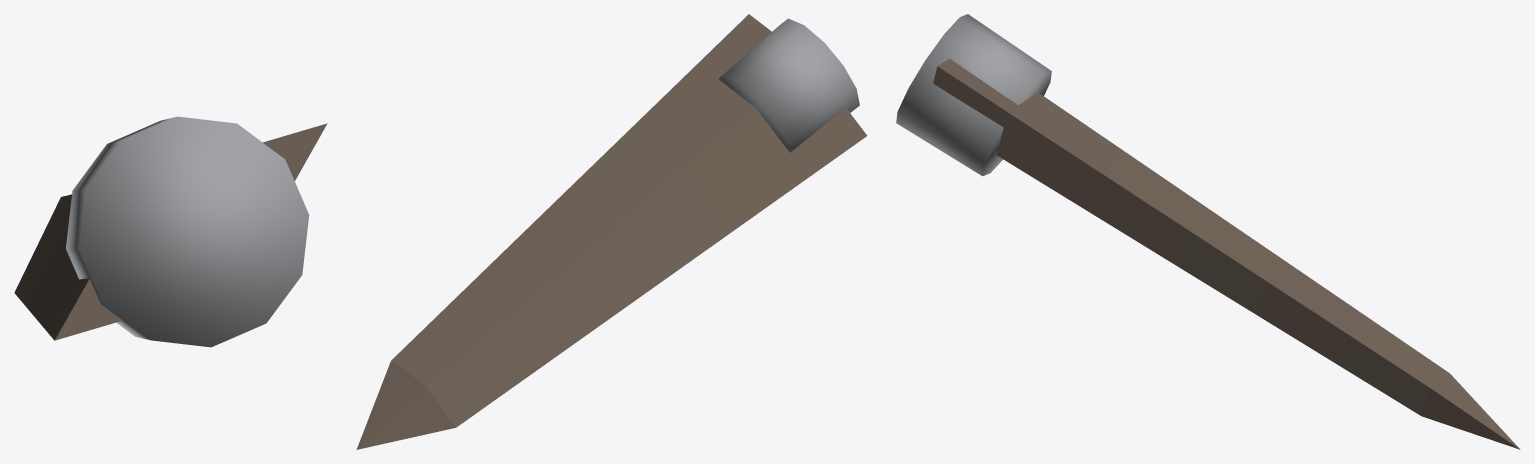
File: DaggerSheath.fbx
3 views of the same model, side by side, from view 1: azimuth 30°, elevation 25°; view 2: azimuth 150°, elevation 25°; view 3: azimuth 270°, elevation 25° (orthographic). The views are drawn at different scales.
Parts seen in each view (by area): view 1: DaggerSheath; view 2: DaggerSheath; view 3: DaggerSheath.
Boxes of the visible parts, bbox=[...] form: DaggerSheath: bbox=[14, 116, 327, 347]; DaggerSheath: bbox=[356, 14, 867, 449]; DaggerSheath: bbox=[896, 14, 1520, 449].
Size of the model in its own units: 7.36 by 7.67 by 13.37.
